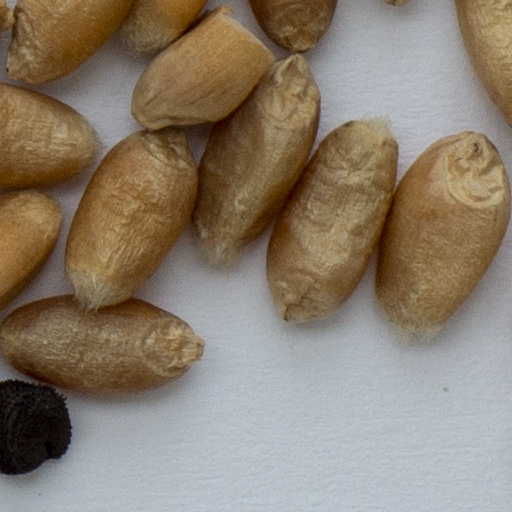Agrostemma-poly: (0, 379, 73, 476)
